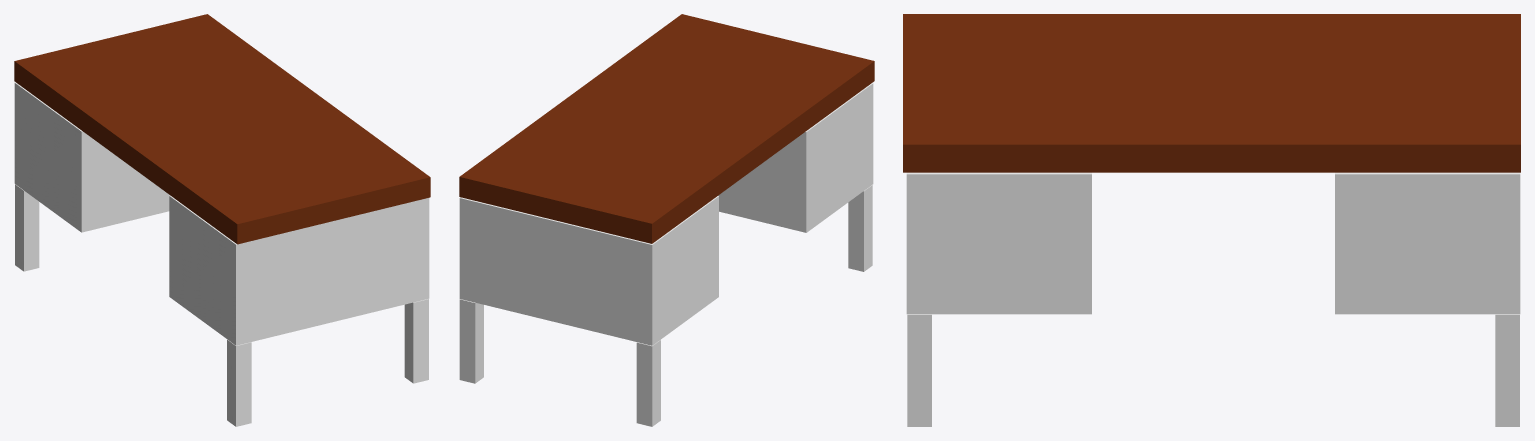
The model's file is desk.fbx.
3 renders of one model, left to right at view 1: azimuth 30°, elevation 25°; view 2: azimuth 150°, elevation 25°; view 3: azimuth 270°, elevation 25°, orthographic. The views are drawn at different scales.
Parts seen in each view (by area): view 1: desk, Cube__1_, Cube, Cube__5_, Cube__4_, Cube__3_; view 2: desk, Cube, Cube__1_, Cube__3_, Cube__2_, Cube__5_; view 3: desk, Cube, Cube__1_, Cube__2_, Cube__4_.
Boxes of the visible parts, left/top/right/bottom form: desk: left=14, top=14, right=430, bottom=244; Cube__1_: left=169, top=195, right=429, bottom=345; Cube: left=14, top=82, right=169, bottom=232; Cube__5_: left=227, top=339, right=251, bottom=426; Cube__4_: left=404, top=299, right=428, bottom=383; Cube__3_: left=15, top=184, right=39, bottom=271; desk: left=459, top=14, right=874, bottom=243; Cube: left=459, top=196, right=718, bottom=345; Cube__1_: left=718, top=83, right=873, bottom=232; Cube__3_: left=636, top=340, right=660, bottom=426; Cube__2_: left=459, top=299, right=483, bottom=383; Cube__5_: left=848, top=185, right=872, bottom=271; desk: left=903, top=14, right=1520, bottom=172; Cube: left=1335, top=172, right=1520, bottom=314; Cube__1_: left=906, top=172, right=1091, bottom=314; Cube__2_: left=1495, top=314, right=1519, bottom=426; Cube__4_: left=907, top=314, right=931, bottom=426.
Bounding box in the file's own units: 100 × 101 × 200.
